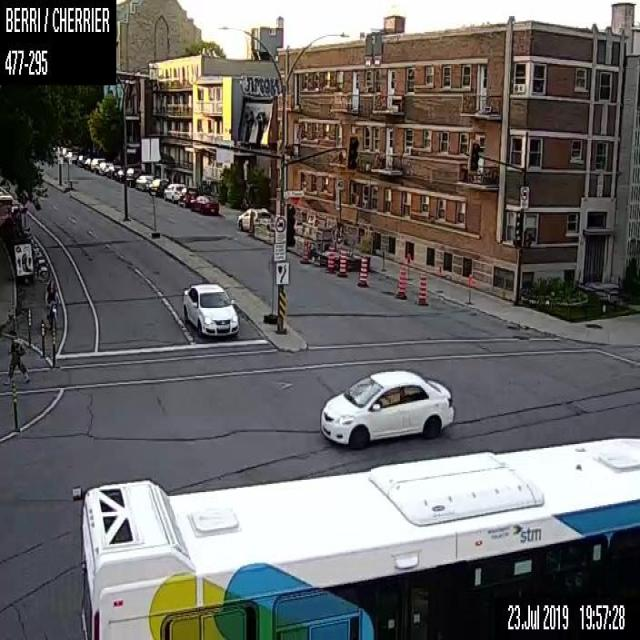bus: (71, 436, 639, 638)
construction: (263, 255, 277, 322), (415, 275, 428, 304), (356, 256, 368, 286), (336, 246, 348, 276), (324, 244, 336, 273), (396, 265, 406, 298), (464, 273, 474, 304), (12, 381, 18, 431), (434, 264, 444, 293), (404, 252, 414, 280), (378, 248, 387, 271), (40, 318, 45, 358), (27, 306, 30, 344), (52, 330, 55, 366), (10, 306, 14, 331)
cyclist: (44, 277, 59, 332)
pedestrian: (7, 331, 29, 386)
vehicle: (320, 368, 454, 449), (182, 283, 238, 337), (237, 207, 269, 232), (189, 194, 218, 213), (163, 182, 186, 202), (177, 186, 198, 207), (148, 178, 168, 195), (135, 175, 154, 190), (126, 167, 140, 186), (90, 157, 105, 173), (106, 165, 120, 178), (99, 161, 112, 174), (64, 151, 78, 162), (113, 169, 124, 182), (76, 154, 85, 166), (84, 158, 90, 168)
